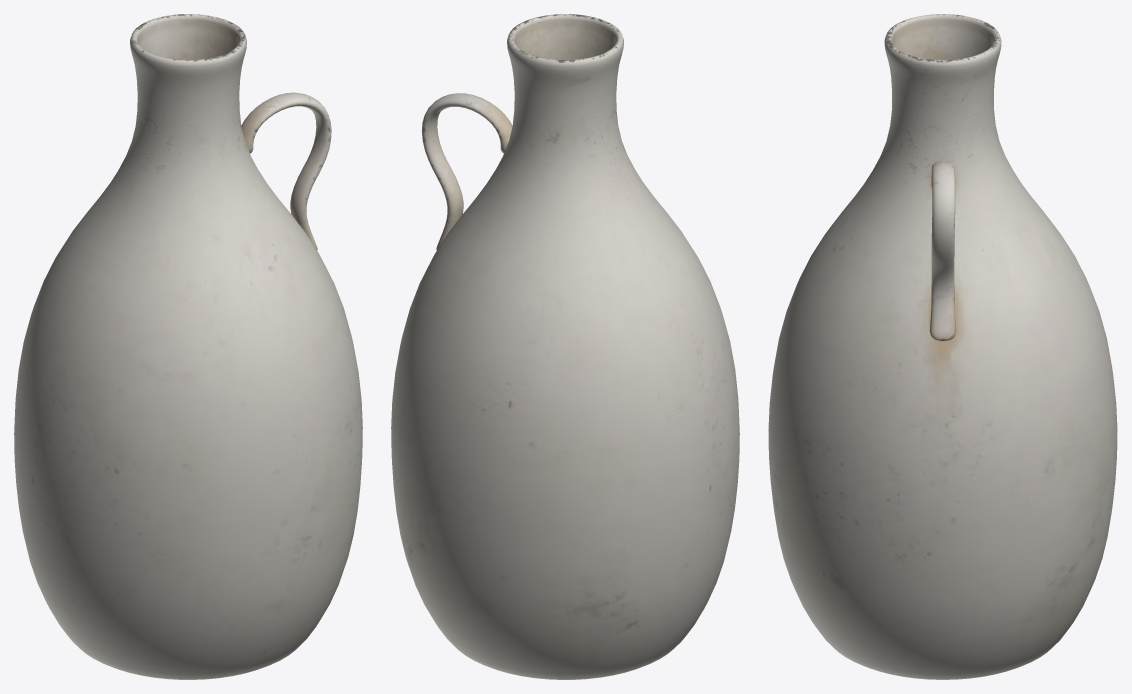
Rendered from vase.glb.
3 views of the same model, side by side, from view 1: azimuth 30°, elevation 25°; view 2: azimuth 150°, elevation 25°; view 3: azimuth 270°, elevation 25° (orthographic).
Parts seen in each view (by area): view 1: vase_ct_0; view 2: vase_ct_0; view 3: vase_ct_0.
Boxes of the visible parts, x1,y1,x2,y2 form: vase_ct_0: (14, 14, 362, 679); vase_ct_0: (391, 14, 739, 679); vase_ct_0: (768, 14, 1117, 679).
Bounding box in the file's own units: 0.1811 × 0.3419 × 0.1811.
Materials: 1 (1 with a texture image).
